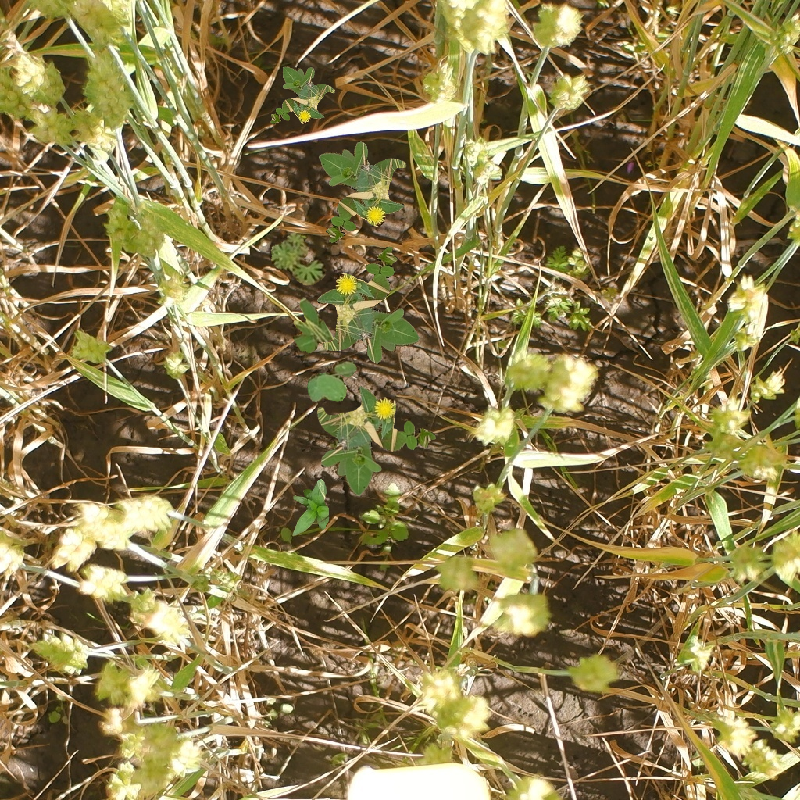spikelet: (541, 355, 597, 412), (728, 277, 769, 348), (456, 1, 509, 54), (414, 663, 474, 706), (70, 1, 135, 40), (433, 694, 489, 739), (79, 503, 131, 549), (117, 494, 175, 534), (532, 3, 582, 48), (15, 57, 65, 102), (37, 631, 89, 672), (148, 601, 192, 648), (739, 439, 786, 481), (503, 350, 550, 391), (502, 594, 550, 634), (51, 525, 95, 568), (712, 707, 753, 752), (461, 138, 500, 185), (79, 564, 128, 601), (472, 405, 516, 445), (149, 236, 188, 281), (769, 530, 800, 582), (422, 60, 457, 106), (743, 740, 785, 777), (727, 542, 766, 581), (126, 666, 167, 703), (550, 74, 590, 111), (677, 633, 713, 672), (711, 398, 748, 435), (105, 761, 140, 800), (168, 739, 203, 777), (749, 370, 786, 402), (771, 14, 799, 55), (88, 126, 118, 163), (207, 567, 241, 597), (770, 706, 799, 739), (1, 539, 25, 577), (715, 596, 744, 622), (163, 353, 187, 377)
weed: (317, 398, 416, 496), (523, 240, 624, 336), (318, 140, 413, 227), (339, 263, 417, 352), (263, 227, 335, 295), (264, 62, 337, 126), (305, 354, 358, 408), (294, 480, 336, 542), (293, 300, 335, 357)
